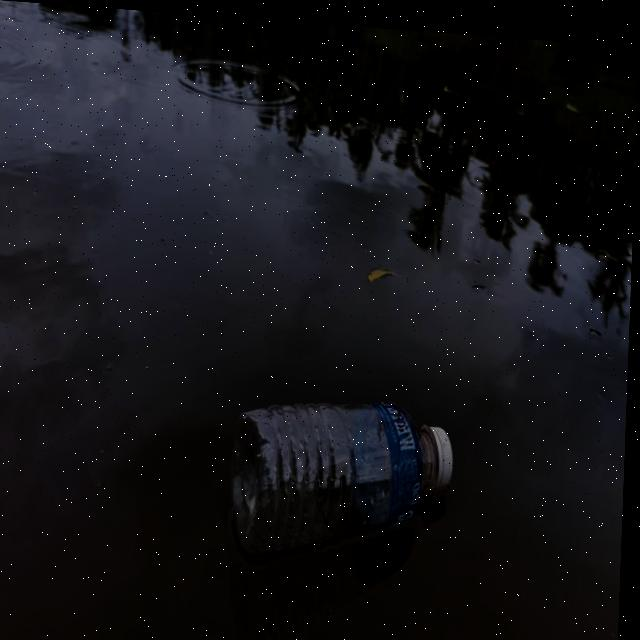waterbottle: (218, 371, 470, 565)
